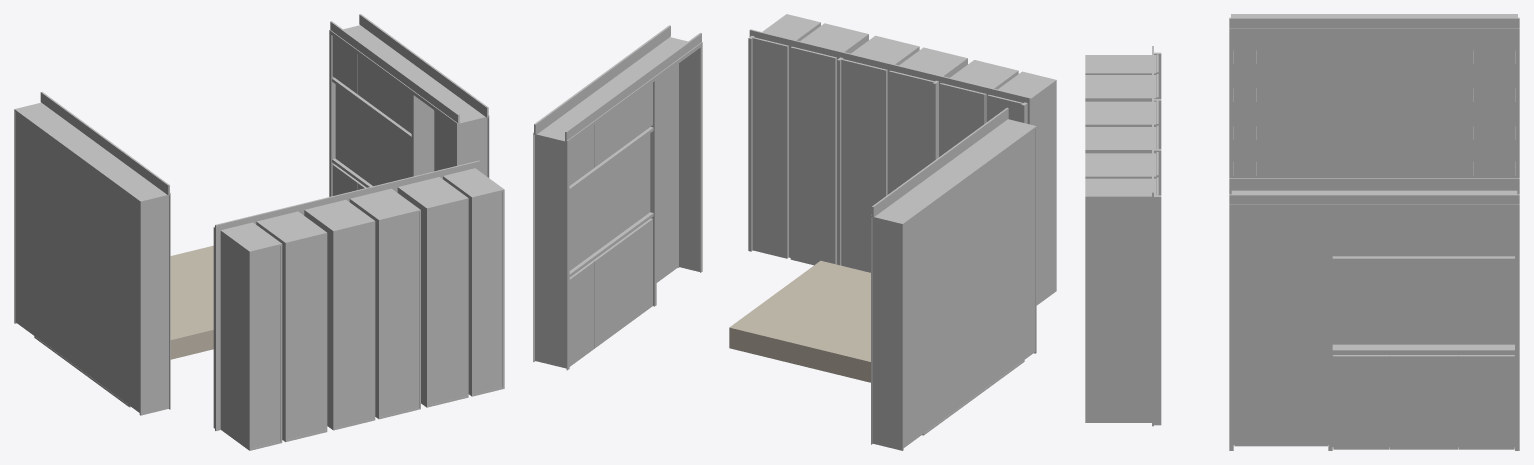
File: 26A011_camera_master.obj
The picture shows the model from 3 angles, left to right: view 1: azimuth 30°, elevation 25°; view 2: azimuth 150°, elevation 25°; view 3: azimuth 270°, elevation 25°; orthographic projection. The views are drawn at different scales.
Visible parts, largest first — view 1: parete_letto_master__PLT_197_SCHIENA, armadio_master__AMB_84_SCHIENA_002, armadio_master__AMB_84_SCHIENA, armadio_master__AMC_90_SCHIENA, armadio_master__AMC_90_SCHIENA_002, parete_letto_master__PLS_168_FIANCO_SX, armadio_master__AMA_74_FIANCO_DX, armadio_master__AMA_78_SCHIENA, armadio_master__AMA_78_SCHIENA_002, parete_div_master__DVT_166_PANNELLO_TV_CAMERA, letto_master__MATERASSO, parete_letto_master__PLD_189_SCHIENA (+34 smaller); view 2: parete_letto_master__PLT_197_SCHIENA, letto_master__MATERASSO, armadio_master__AME_108_ANTA, armadio_master__AMD_105_ANTA, armadio_master__AMF_111_ANTA, parete_letto_master__PLD_182_FIANCO_DX, parete_div_master__DVT_117_FIANCO_DX, parete_div_master__DVT_166_PANNELLO_TV_CAMERA, parete_letto_master__PLD_189_SCHIENA, parete_div_master__DVP_115_PANNELLO_PORTA, armadio_master__AMA_74_FIANCO_DX, parete_div_master__DVP_112_FIANCO_SX (+32 smaller); view 3: parete_letto_master__PLT_196_PANNELLO_TESTATA, parete_div_master__DVP_115_PANNELLO_PORTA, armadio_master__AMF_110_FIANCO_SX, parete_div_master__DVT_165_PANNELLO_TV_LIVING, parete_div_master__DVT_131_ANTA_BASSA_CEN, parete_letto_master__PLD_191_ANTA, parete_div_master__DVT_130_ANTA_BASSA_SX, parete_div_master__DVT_132_ANTA_BASSA_DX, parete_div_master__DV_138_FASCIONE, parete_letto_master__PLS_178_ANTA, parete_div_master__DVT_134_ANTA_ALTA_CEN, parete_letto_master__PL_211_FASCIONE (+28 smaller).
Part boxes in pixels (x1=…): parete_letto_master__PLT_197_SCHIENA: x1=36, y1=127, x2=127, y2=403; armadio_master__AMB_84_SCHIENA_002: x1=428, y1=200, x2=466, y2=405; armadio_master__AMB_84_SCHIENA: x1=287, y1=235, x2=325, y2=439; armadio_master__AMC_90_SCHIENA: x1=335, y1=223, x2=373, y2=427; armadio_master__AMC_90_SCHIENA_002: x1=380, y1=212, x2=418, y2=416; parete_letto_master__PLS_168_FIANCO_SX: x1=139, y1=194, x2=169, y2=415; armadio_master__AMA_74_FIANCO_DX: x1=220, y1=230, x2=251, y2=450; armadio_master__AMA_78_SCHIENA: x1=251, y1=246, x2=280, y2=448; armadio_master__AMA_78_SCHIENA_002: x1=473, y1=192, x2=502, y2=394; parete_div_master__DVT_166_PANNELLO_TV_CAMERA: x1=335, y1=84, x2=411, y2=185; letto_master__MATERASSO: x1=170, y1=245, x2=213, y2=359; parete_letto_master__PLD_189_SCHIENA: x1=15, y1=112, x2=34, y2=335; parete_letto_master__PLT_197_SCHIENA: x1=926, y1=138, x2=1022, y2=431; letto_master__MATERASSO: x1=729, y1=260, x2=870, y2=382; armadio_master__AME_108_ANTA: x1=790, y1=46, x2=836, y2=265; armadio_master__AMD_105_ANTA: x1=841, y1=59, x2=886, y2=272; armadio_master__AMF_111_ANTA: x1=752, y1=37, x2=788, y2=258; parete_letto_master__PLD_182_FIANCO_DX: x1=872, y1=216, x2=903, y2=450; parete_div_master__DVT_117_FIANCO_DX: x1=535, y1=134, x2=566, y2=368; parete_div_master__DVT_166_PANNELLO_TV_CAMERA: x1=569, y1=133, x2=650, y2=270; parete_letto_master__PLD_189_SCHIENA: x1=903, y1=211, x2=923, y2=447; parete_div_master__DVP_115_PANNELLO_PORTA: x1=656, y1=64, x2=678, y2=282; armadio_master__AMA_74_FIANCO_DX: x1=1030, y1=79, x2=1056, y2=305; parete_div_master__DVP_112_FIANCO_SX: x1=669, y1=37, x2=699, y2=271; parete_letto_master__PLT_196_PANNELLO_TESTATA: x1=1261, y1=32, x2=1467, y2=178; parete_div_master__DVP_115_PANNELLO_PORTA: x1=1234, y1=209, x2=1327, y2=446; armadio_master__AMF_110_FIANCO_SX: x1=1085, y1=195, x2=1151, y2=422; parete_div_master__DVT_165_PANNELLO_TV_LIVING: x1=1332, y1=262, x2=1514, y2=344; parete_div_master__DVT_131_ANTA_BASSA_CEN: x1=1389, y1=355, x2=1458, y2=449; parete_letto_master__PLD_191_ANTA: x1=1473, y1=32, x2=1515, y2=178; parete_div_master__DVT_130_ANTA_BASSA_SX: x1=1333, y1=355, x2=1388, y2=449; parete_div_master__DVT_132_ANTA_BASSA_DX: x1=1459, y1=355, x2=1514, y2=449; parete_div_master__DV_138_FASCIONE: x1=1229, y1=178, x2=1519, y2=190; parete_letto_master__PLS_178_ANTA: x1=1233, y1=32, x2=1255, y2=178; parete_div_master__DVT_134_ANTA_ALTA_CEN: x1=1389, y1=209, x2=1458, y2=255; parete_letto_master__PL_211_FASCIONE: x1=1229, y1=17, x2=1519, y2=27.
Size of the model in its own units: 3.73 by 2.3 by 3.54.
